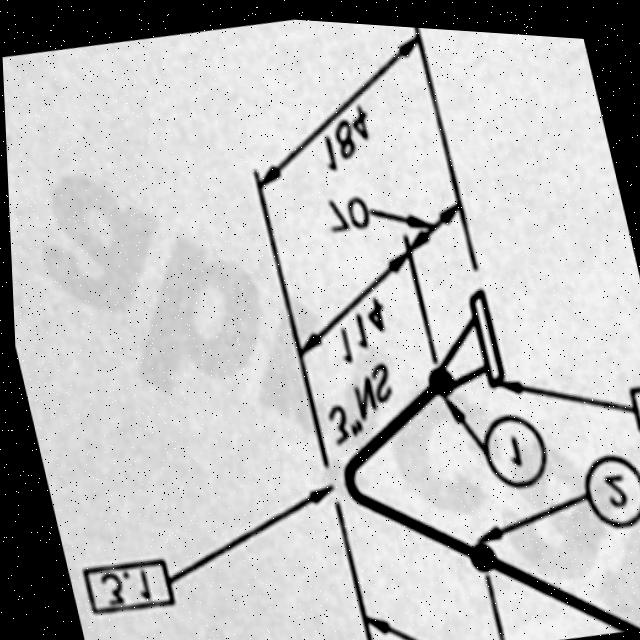Item number: (72, 549, 173, 620), (623, 370, 640, 430)
Measrement: (248, 20, 423, 225), (293, 225, 416, 362), (309, 177, 438, 257), (319, 348, 391, 449), (352, 586, 454, 640)
Pipeline: (333, 462, 640, 624)
Symbol: (415, 271, 518, 397)
Weld number: (471, 399, 552, 489), (571, 438, 640, 528)
